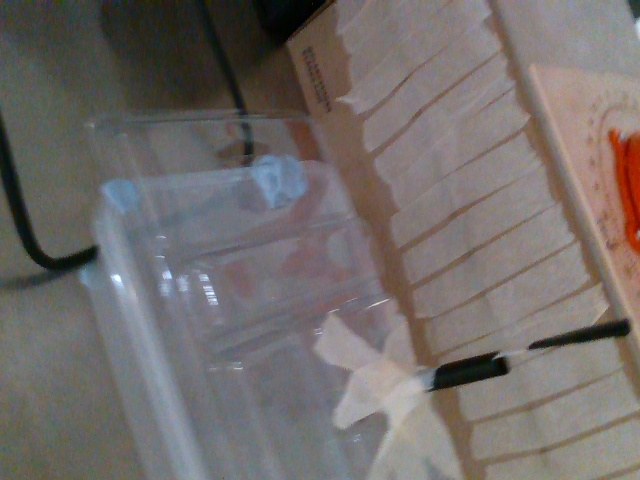test_strip: (491, 318, 628, 357)
